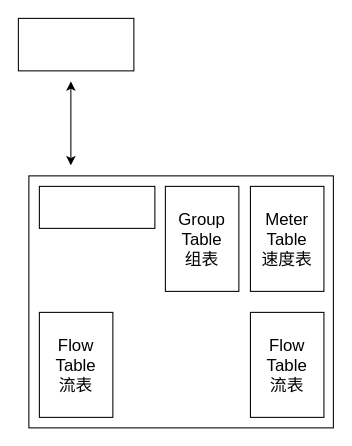
Some shapes in this 352 by 446 pixel diagram are drawn without their labels. The shapes that lost their labels are listed below. From the top down, each one's centre as x and y in pixels, then its label:
[75,44]: 控制器
[96,206]: OpenFlow信道
